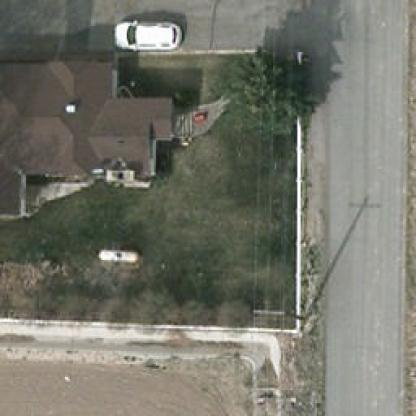car: (110, 16, 182, 49)
